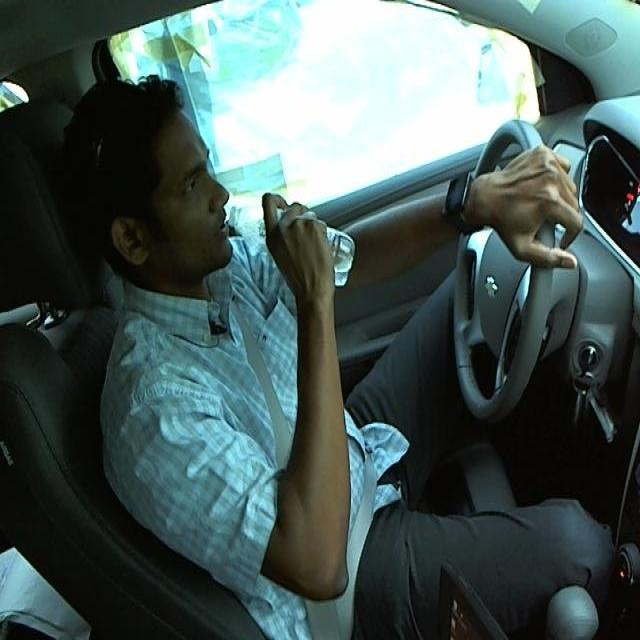Seatbelt: (226, 206, 351, 286)
